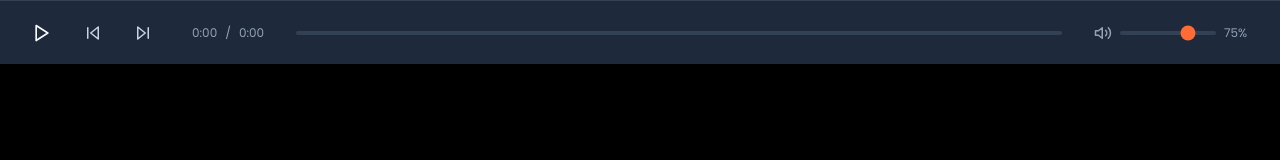
Test case: PlayerBar › Play/Pause functionality › toggles between play and pause icons when play button is clicked
expect the 1st icon is shown: met, box [32, 22, 52, 42]
Click to play
Click the 1st button at [42, 32], box [24, 14, 60, 50]
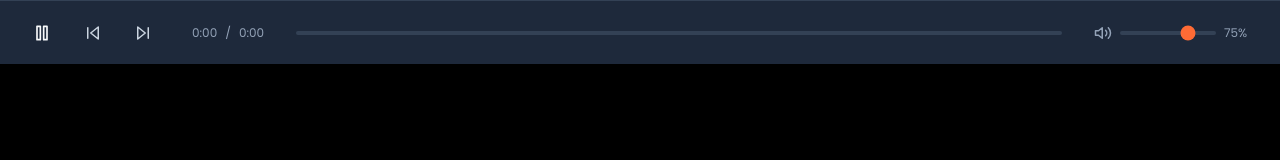
expect the 1st icon is shown: met, box [32, 22, 52, 42]
expect the icon is gone: met
Click to pause
Click the 1st button at [42, 32], box [24, 14, 60, 50]
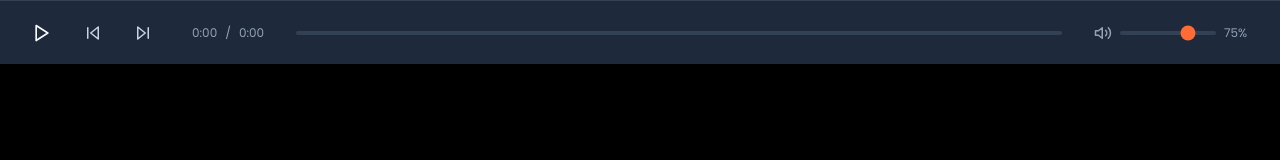
expect the 1st icon is shown: met, box [32, 22, 52, 42]
expect the icon is gone: met
